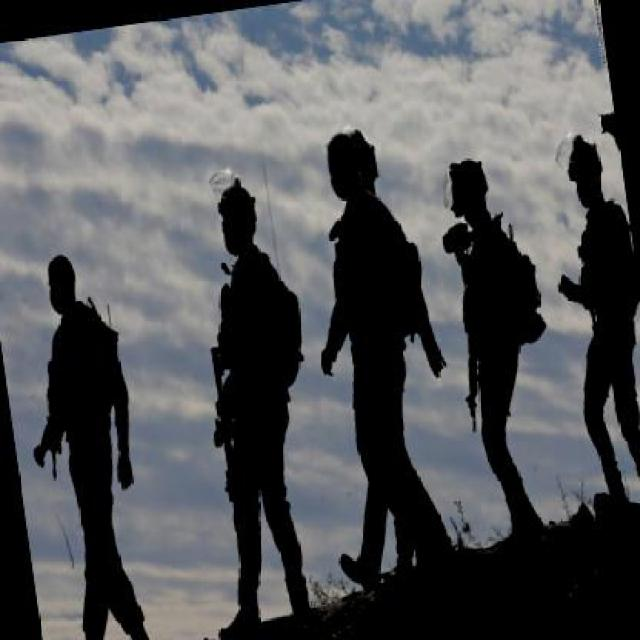MIL_Pax: (169, 170, 345, 628), (306, 115, 474, 579), (1, 242, 168, 638), (428, 146, 572, 545), (537, 126, 638, 520)
